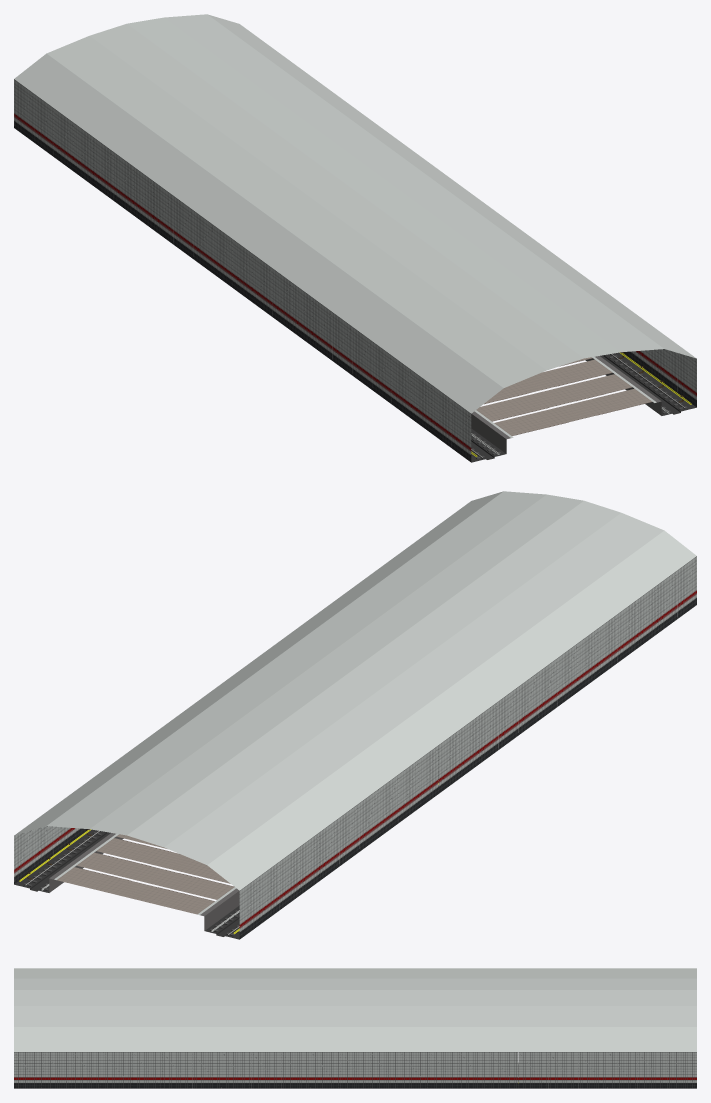
File: stantion2.fbx
The picture shows the model from 3 angles, top to bottom: view 1: azimuth 30°, elevation 25°; view 2: azimuth 150°, elevation 25°; view 3: azimuth 270°, elevation 25°; orthographic projection. The views are drawn at different scales.
Parts seen in each view (by area): view 1: stantion.001; view 2: stantion.001; view 3: stantion.001.
Boxes of the visible parts, left/top/right/bottom form: stantion.001: left=14, top=14, right=696, bottom=462; stantion.001: left=14, top=491, right=696, bottom=939; stantion.001: left=14, top=968, right=696, bottom=1088.
Bounding box in the file's own units: 21.8 × 7.22 × 76.52.
1 material, 1 textured.
